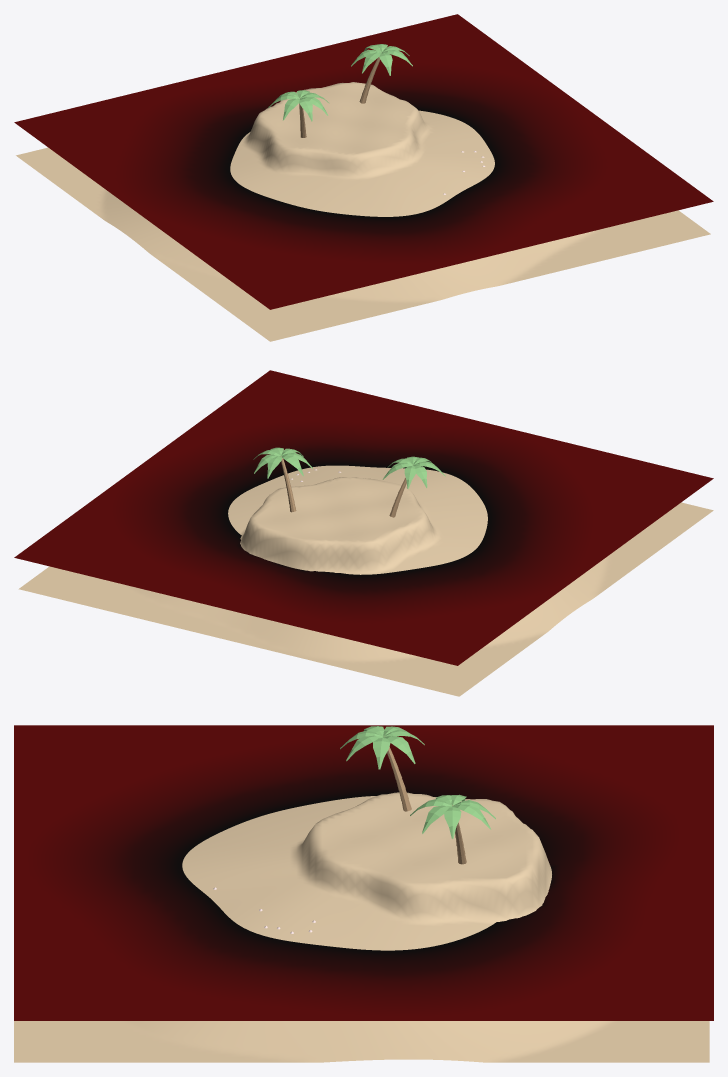
Rendered from sand_island.glb.
The picture shows the model from 3 angles, top to bottom: view 1: azimuth 30°, elevation 25°; view 2: azimuth 150°, elevation 25°; view 3: azimuth 270°, elevation 25°; orthographic projection. The views are drawn at different scales.
Parts seen in each view (by area): view 1: Water, Terrain-col, Palms.Leaves; view 2: Water, Terrain-col, Palms.Leaves; view 3: Water, Terrain-col, Palms.Leaves, Palms.Trunk.
Part boxes in pixels (x1,y1,x2,y2): Water: (14, 14, 713, 309); Terrain-col: (16, 82, 710, 341); Palms.Leaves: (268, 44, 412, 121); Water: (14, 370, 713, 665); Terrain-col: (18, 465, 713, 696); Palms.Leaves: (253, 447, 445, 488); Water: (14, 725, 713, 1020); Terrain-col: (14, 792, 709, 1062); Palms.Leaves: (340, 726, 495, 838); Palms.Trunk: (384, 736, 466, 864).
Size of the model in its own units: 32 by 7.43 by 32.
